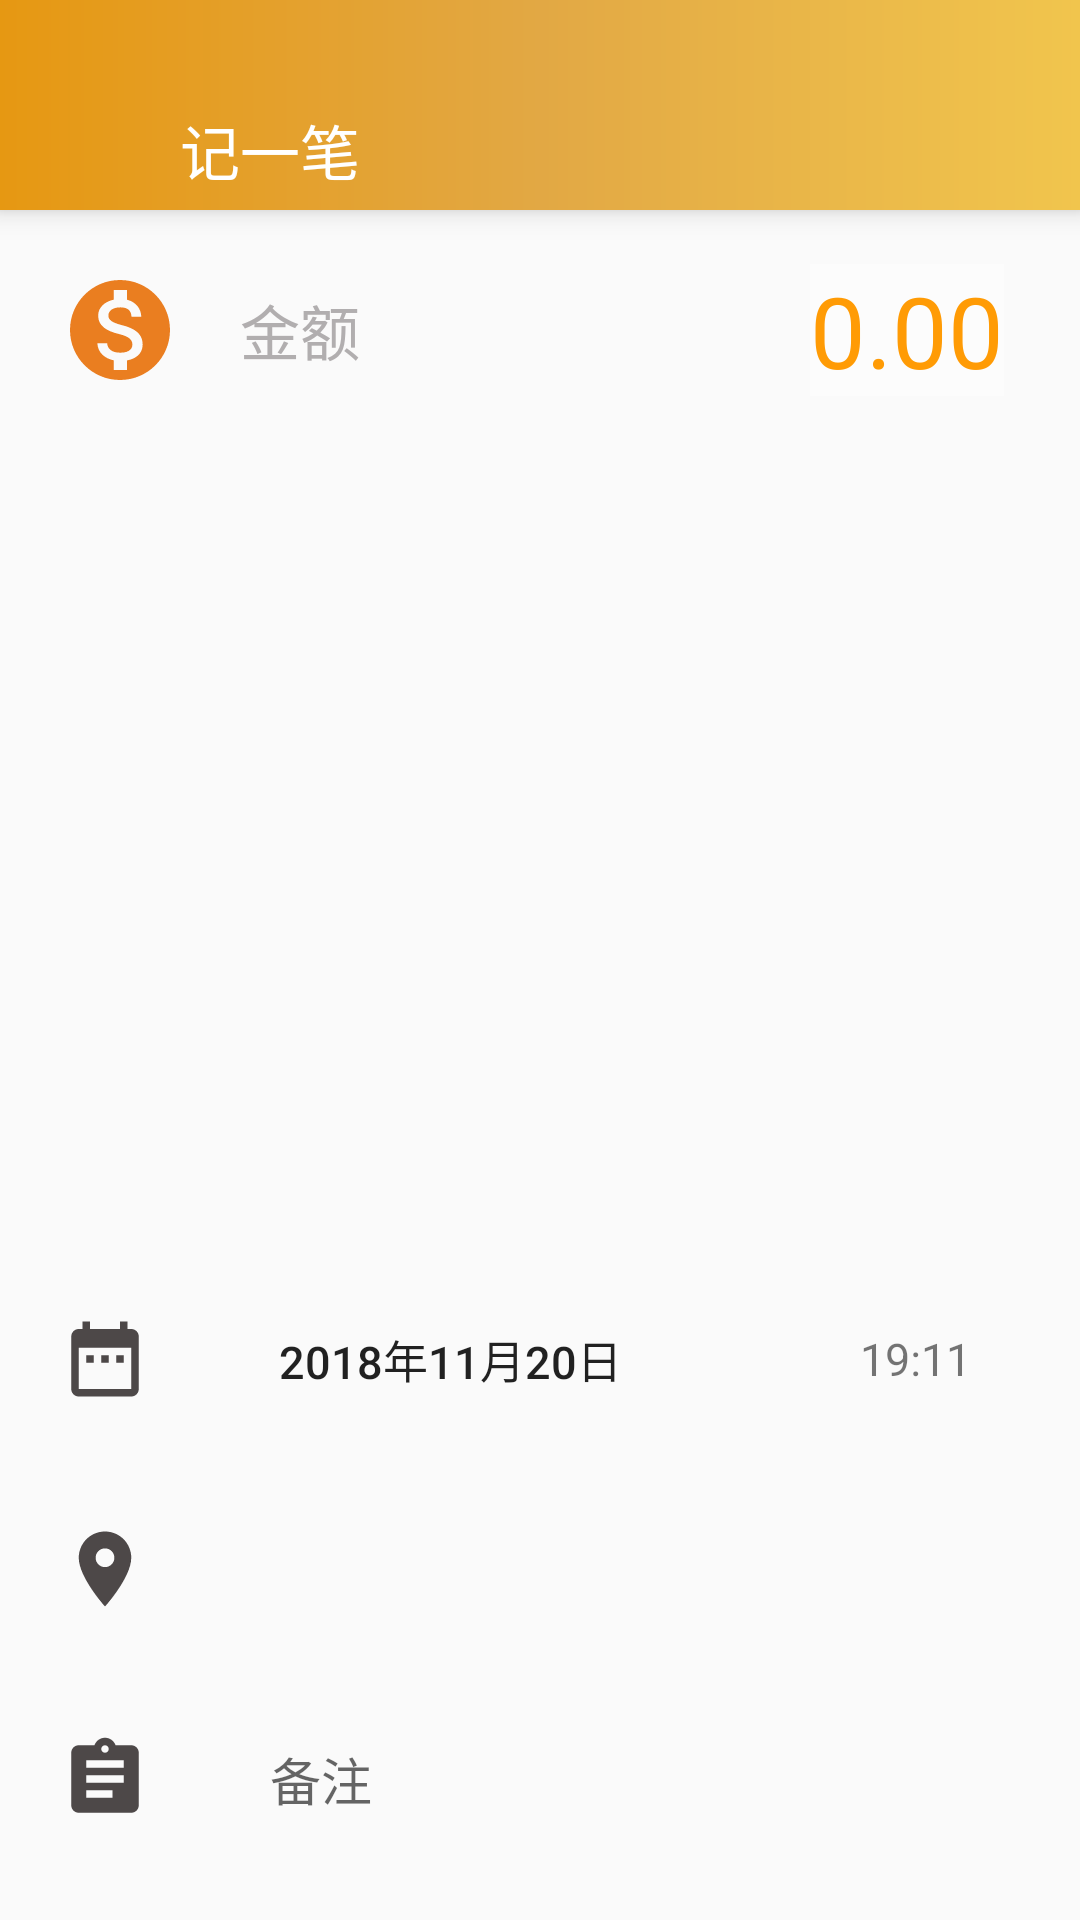

Named icons in this screenshot (1080×1920) and their centers, point (x, y):
assignment: point (105, 1775)
date range: point (105, 1359)
location on: point (105, 1568)
monetization on: point (120, 330)
